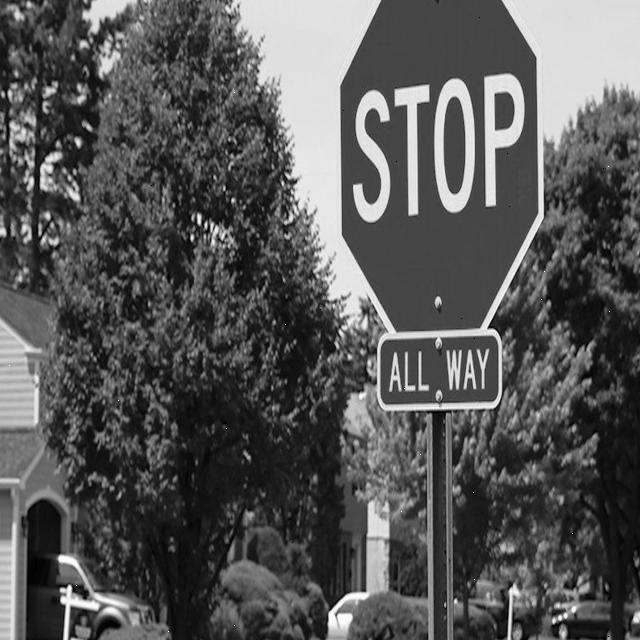Stop-sign: (331, 0, 553, 334)
